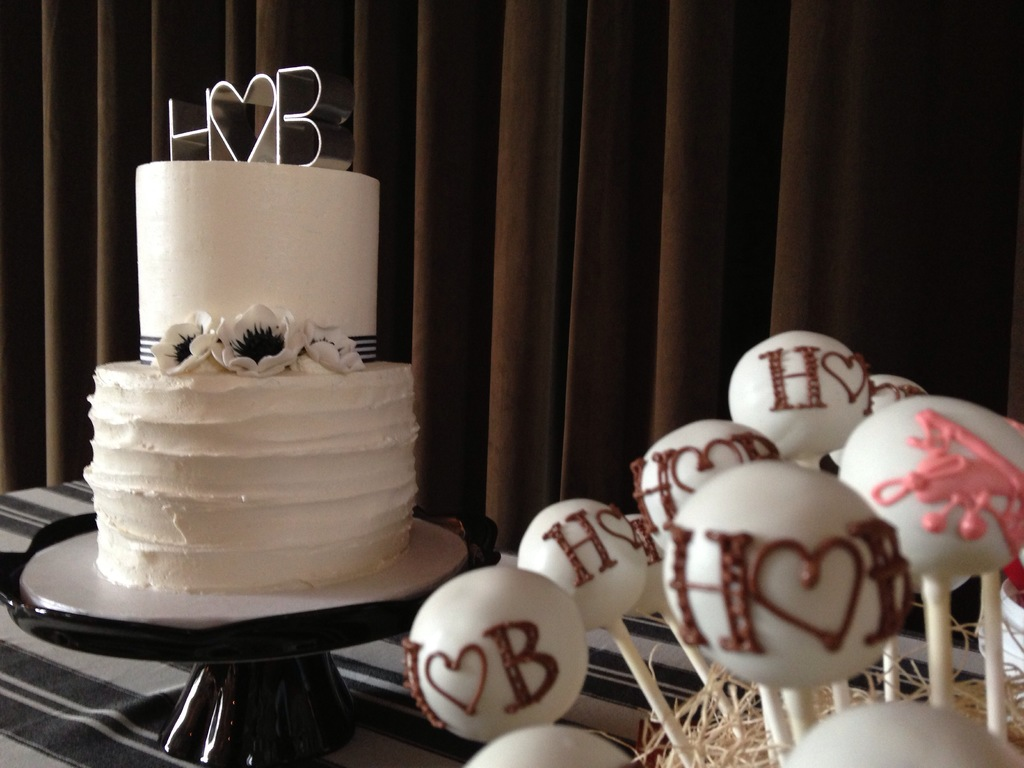cake: (82, 160, 419, 591)
